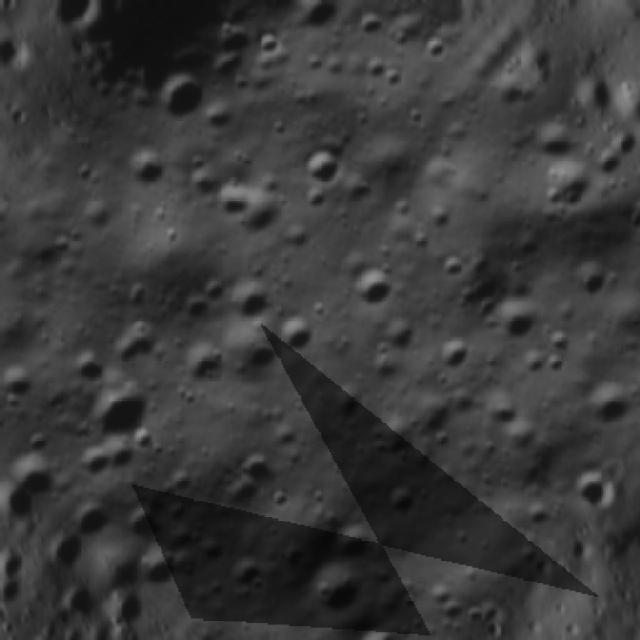crater: (205, 435, 283, 514), (86, 375, 156, 448), (216, 543, 289, 612), (0, 438, 69, 502), (112, 494, 173, 554), (148, 64, 208, 124), (523, 108, 582, 167), (574, 375, 634, 433), (305, 555, 363, 614), (486, 287, 545, 345), (293, 139, 350, 196), (560, 249, 615, 305), (177, 339, 231, 392), (271, 312, 323, 366), (345, 260, 397, 312), (431, 239, 482, 290), (120, 142, 169, 190), (210, 177, 258, 226), (278, 0, 339, 35), (370, 314, 416, 360), (377, 478, 421, 524), (329, 522, 374, 566), (433, 335, 478, 376), (71, 494, 112, 538), (482, 390, 523, 432), (234, 282, 275, 323), (572, 455, 612, 496), (168, 284, 208, 324), (347, 3, 385, 43), (198, 270, 236, 308), (252, 19, 290, 56), (547, 325, 582, 360), (226, 66, 260, 102), (508, 346, 542, 380), (414, 29, 448, 63), (588, 144, 622, 178), (0, 366, 34, 400), (615, 198, 640, 240), (544, 348, 568, 372), (355, 626, 393, 640), (634, 232, 640, 276)
